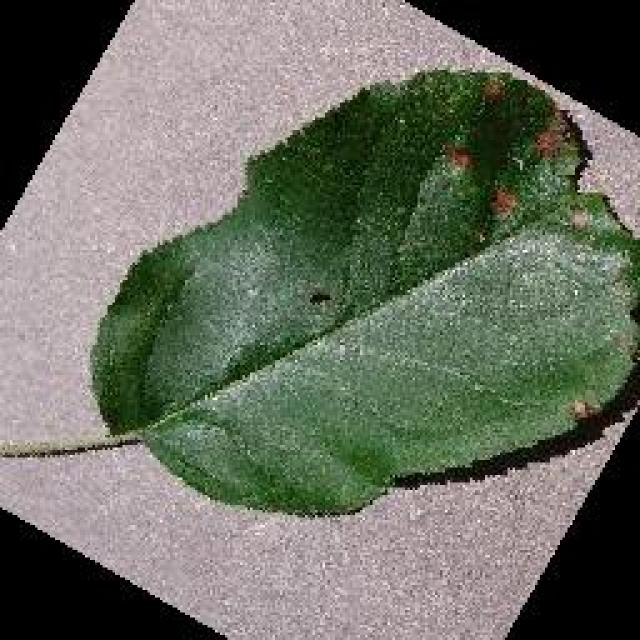Black_rot: (0, 65, 638, 517)
